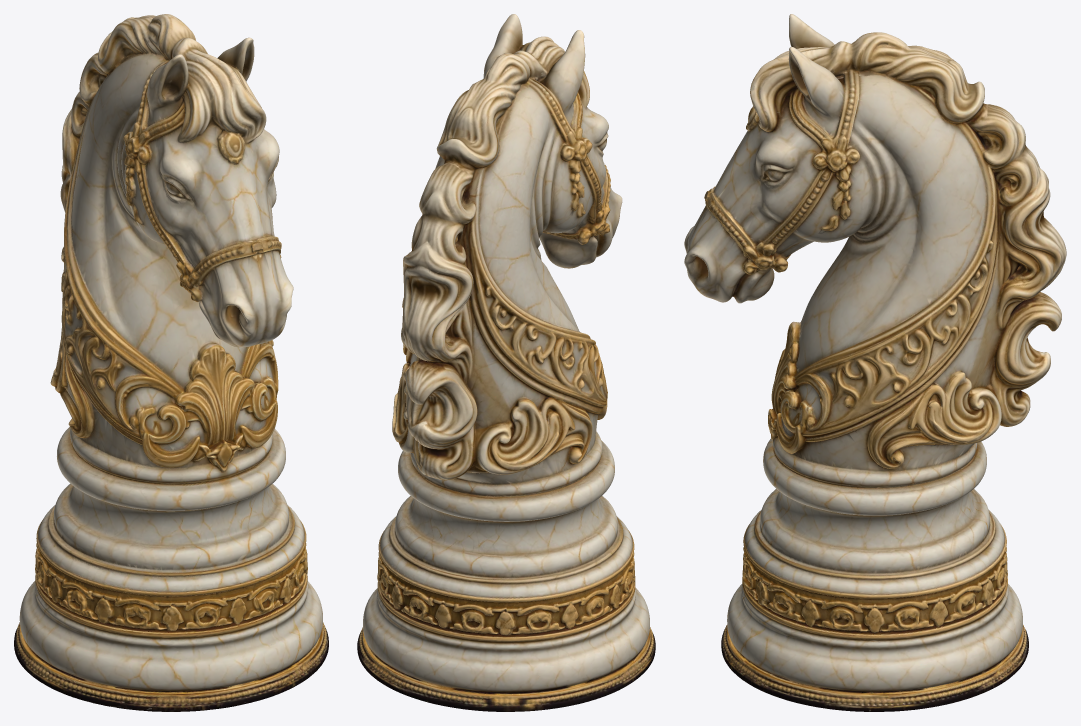
Rendered from baroque_knight_white_opt.glb.
3 renders of one model, left to right at view 1: azimuth 30°, elevation 25°; view 2: azimuth 150°, elevation 25°; view 3: azimuth 270°, elevation 25°, orthographic. The views are drawn at different scales.
Size of the model in its own units: 0.8589 by 1.9 by 1.07.
1 material, 1 textured.
